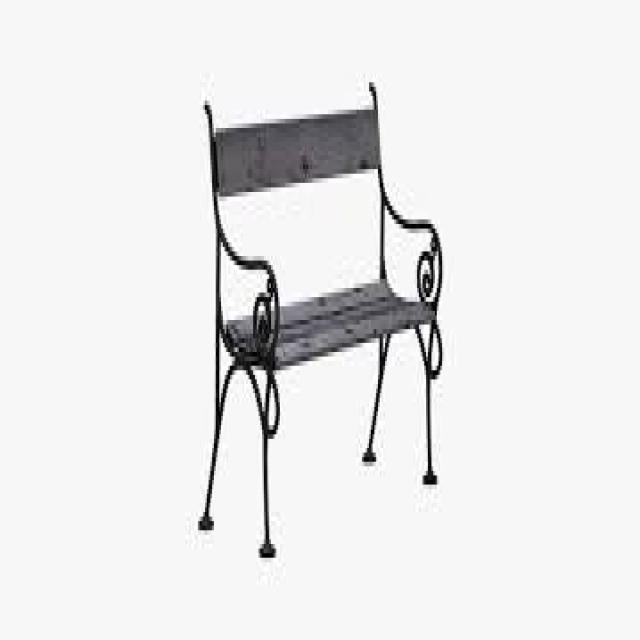chair: (197, 100, 443, 559)
